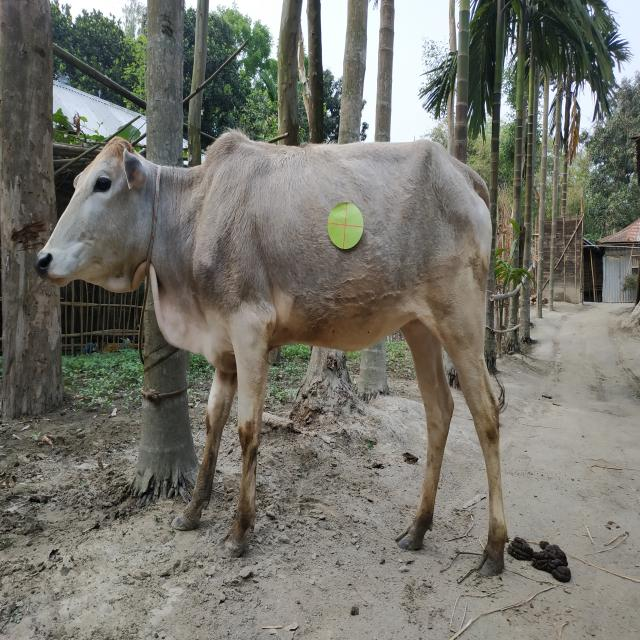badan_sapi: (200, 144, 501, 353)
sapi: (38, 124, 524, 589)
